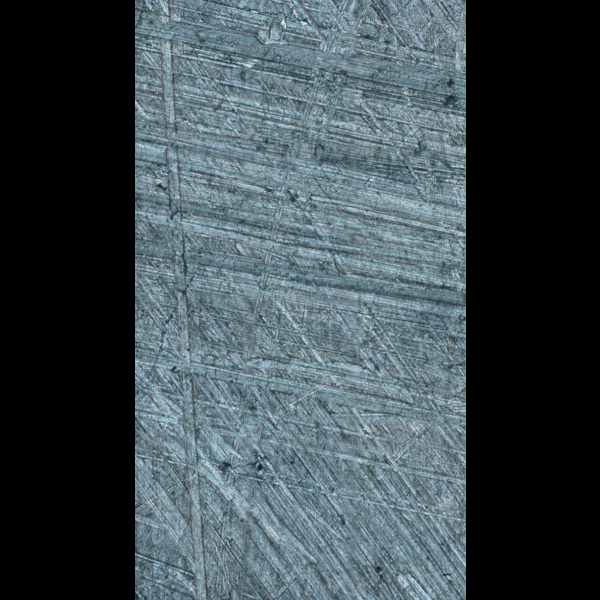d: (205, 0, 378, 599), (134, 295, 464, 433), (143, 0, 214, 599)
